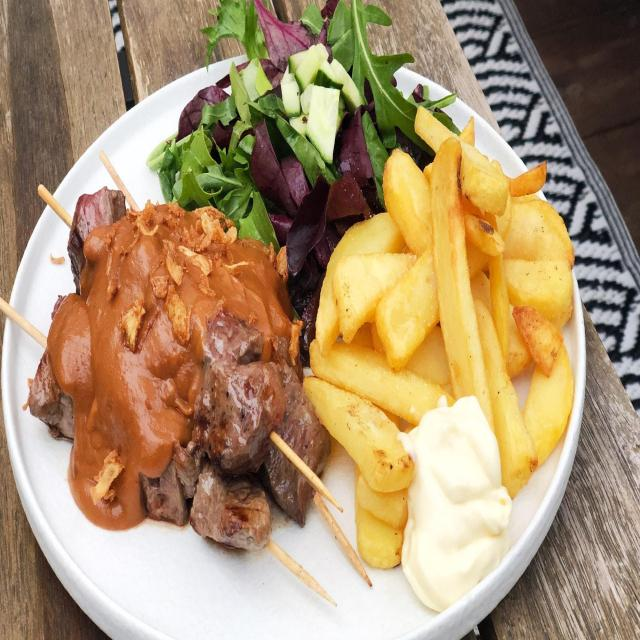Sate: (18, 155, 320, 578)
